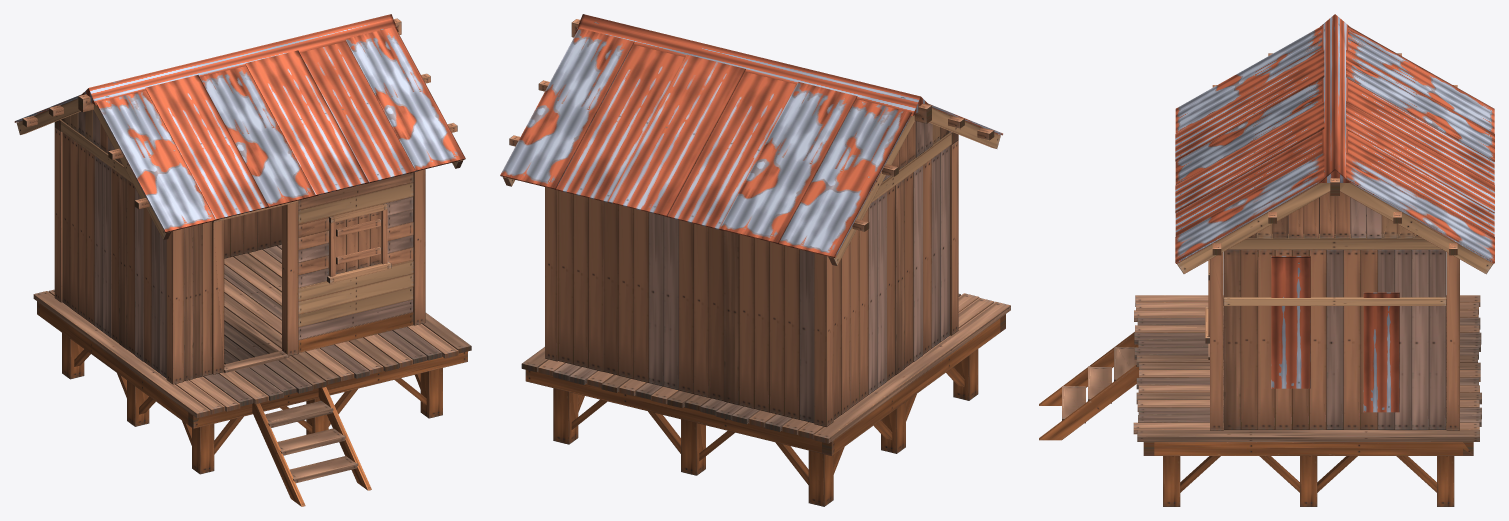
The model's file is houdini_stilt_shack_bake.glb.
The picture shows the model from 3 angles, left to right: view 1: azimuth 30°, elevation 25°; view 2: azimuth 150°, elevation 25°; view 3: azimuth 270°, elevation 25°; orthographic projection. The views are drawn at different scales.
Visible parts, largest first — view 1: LOD0; view 2: LOD0; view 3: LOD0.
Boxes of the visible parts, x1=… form: LOD0: x1=14, y1=14, x2=471, y2=506; LOD0: x1=500, y1=14, x2=1010, y2=506; LOD0: x1=1039, y1=14, x2=1494, y2=506.
Size of what is drawn, in the model's own units: 4.04 by 4.05 by 4.74.
Materials: 5 (5 with a texture image).
